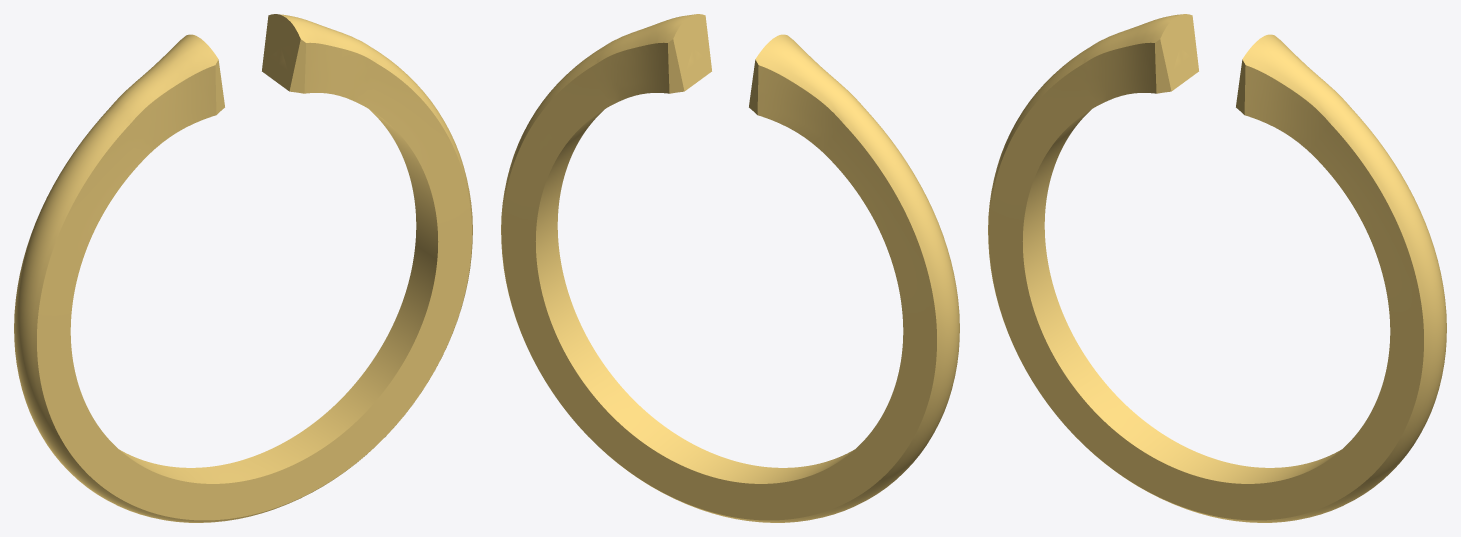
The model's file is goldinteractivemodel_webgi.glb.
3 views of the same model, side by side, from view 1: azimuth 30°, elevation 25°; view 2: azimuth 150°, elevation 25°; view 3: azimuth 330°, elevation 25° (orthographic).
Visible parts, largest first — view 1: tapered_band_YG; view 2: tapered_band_YG; view 3: tapered_band_YG.
Boxes of the visible parts, x1=… form: tapered_band_YG: x1=14, y1=14, x2=472, y2=522; tapered_band_YG: x1=501, y1=14, x2=959, y2=522; tapered_band_YG: x1=988, y1=14, x2=1446, y2=522.
Bounding box in the file's own units: 2.77 × 2.86 × 0.3686.
